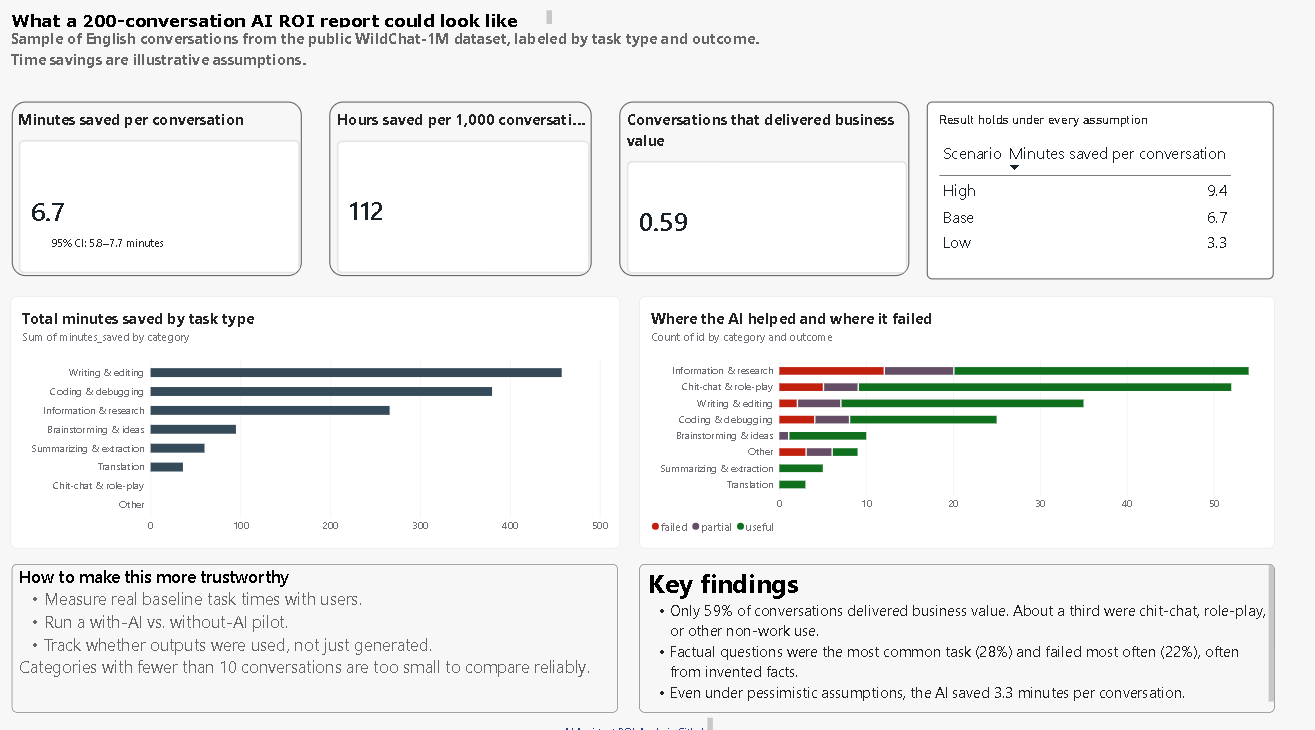

Layout of this report page (visuals, bound fields, positions):
{"tool":"powerbi","page":{"name":"Page 1","canvas":[1920,1080],"ordinal":0},"visuals":[{"type":"textbox","box":[25,30,784.2,24.7],"z":0},{"type":"textbox","box":[25,55,1110,80],"z":1000},{"type":"cardVisual","title":"Minutes saved per conversation","fields":{"Data":["kpis.Avg Minutes Saved"]},"box":[27.5,162.5,420,252.5],"z":2000},{"type":"cardVisual","title":"Conversations that delivered business value","fields":{"Data":["by_category.Delivered Value"]},"box":[907.5,162.5,420,252.5],"z":3000},{"type":"cardVisual","title":"Hours saved per 1,000 conversations","fields":{"Data":["kpis.Hours per 1000"]},"box":[487.5,162.5,380,252.5],"z":4000},{"type":"textbox","box":[82.5,350,185.2,45.3],"z":5000},{"type":"clusteredBarChart","title":"Total minutes saved by task type","fields":{"Category":["by_category.category"],"Y":["Sum(by_category.minutes_saved)"]},"box":[25,445,882.5,365],"z":6000},{"type":"barChart","title":"Where the AI helped and where it failed","fields":{"Category":["results.category"],"Series":["results.outcome"],"Y":["CountNonNull(results.id)"]},"box":[935,445,920,365],"z":7000},{"type":"tableEx","title":"Result holds under every assumption","fields":{"Values":["Scenario.Scenario","Scenario.Minutes saved per conversation"]},"box":[1352.5,162.5,502.5,257.5],"z":8000},{"type":"textbox","box":[935,832.5,920,215],"z":9000},{"type":"textbox","box":[27.5,832.5,877.5,215],"z":10000},{"type":"textbox","box":[827,1055,215.3,25.3],"z":10001}]}

Visuals, with their boxes in screenshot pixels (x1, y1, x2, y2), scaled from the page's 1920x1080 canvas onto the 1315x730 screenshot:
textbox: 17, 20, 554, 37
textbox: 17, 37, 777, 91
"Minutes saved per conversation" cardVisual: 19, 110, 306, 281
"Conversations that delivered business value" cardVisual: 622, 110, 909, 281
"Hours saved per 1,000 conversations" cardVisual: 334, 110, 594, 281
textbox: 57, 237, 183, 267
"Total minutes saved by task type" clusteredBarChart: 17, 301, 622, 548
"Where the AI helped and where it failed" barChart: 640, 301, 1270, 548
"Result holds under every assumption" tableEx: 926, 110, 1270, 284
textbox: 640, 563, 1270, 708
textbox: 19, 563, 620, 708
textbox: 566, 713, 714, 729
